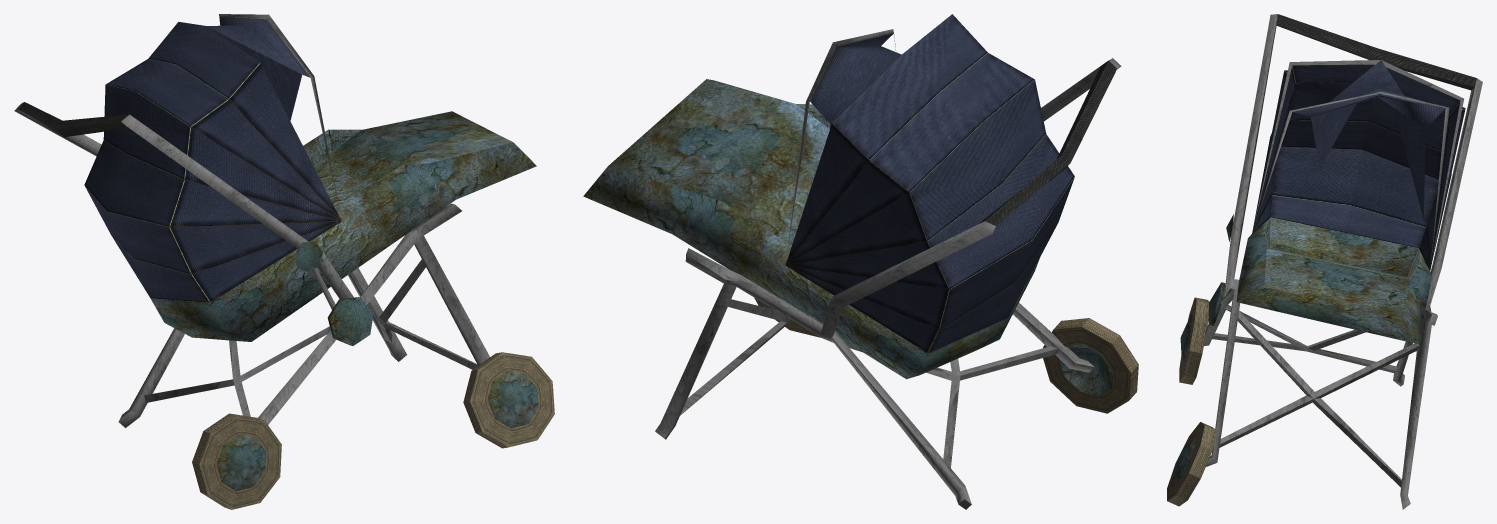
Rendered from M_Home_Garden_buggy.fbx.
The picture shows the model from 3 angles, left to right: view 1: azimuth 30°, elevation 25°; view 2: azimuth 150°, elevation 25°; view 3: azimuth 270°, elevation 25°; orthographic projection. The views are drawn at different scales.
Visible parts, largest first — view 1: M_Home_Garden_buggy; view 2: M_Home_Garden_buggy; view 3: M_Home_Garden_buggy.
Boxes of the visible parts, x1,y1,x2,y2 form: M_Home_Garden_buggy: [14, 14, 554, 509]; M_Home_Garden_buggy: [583, 14, 1138, 509]; M_Home_Garden_buggy: [1167, 14, 1482, 509].
Bounding box in the file's own units: 112 × 99.58 × 79.36.
